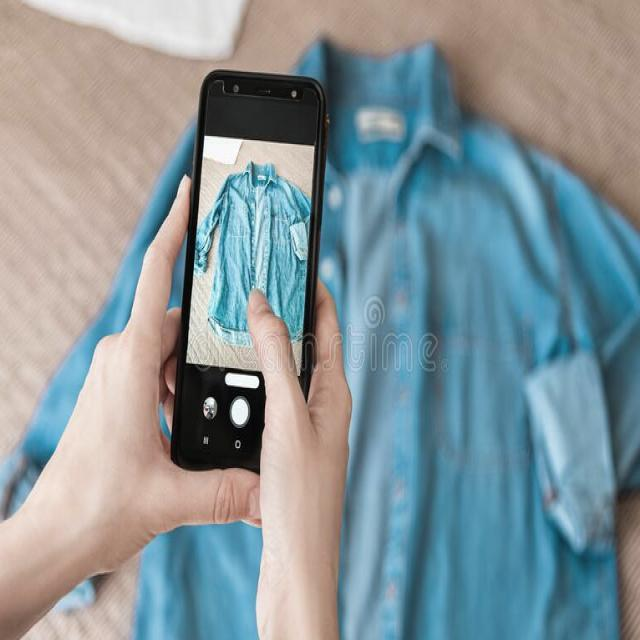clothes: (218, 160, 302, 338)
